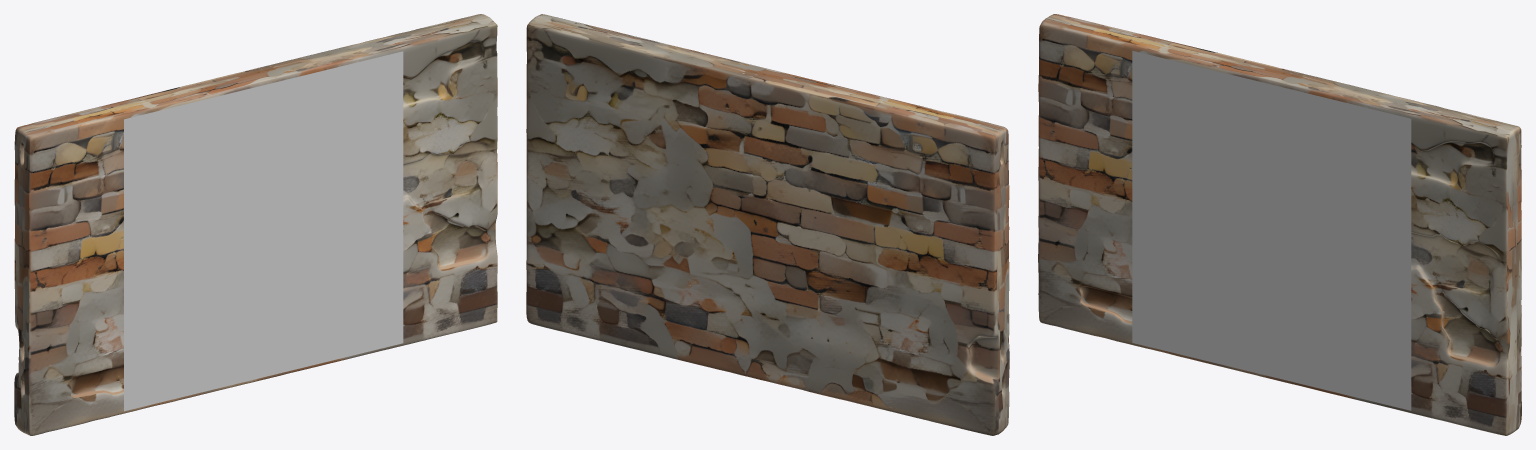
Rendered from wall.glb.
The picture shows the model from 3 angles, left to right: view 1: azimuth 30°, elevation 25°; view 2: azimuth 150°, elevation 25°; view 3: azimuth 330°, elevation 25°; orthographic projection.
Parts seen in each view (by area): view 1: plame, wall; view 2: wall; view 3: plame, wall.
Part boxes in pixels (box(x1,y1,x2,y2)): plame: box(124, 51, 403, 411); wall: box(14, 14, 497, 435); wall: box(526, 14, 1009, 435); plame: box(1132, 50, 1411, 410); wall: box(1038, 14, 1521, 435).
Size of the model in its own units: 2.47 by 1.52 by 0.1445.
Materials: 2 (1 with a texture image).
